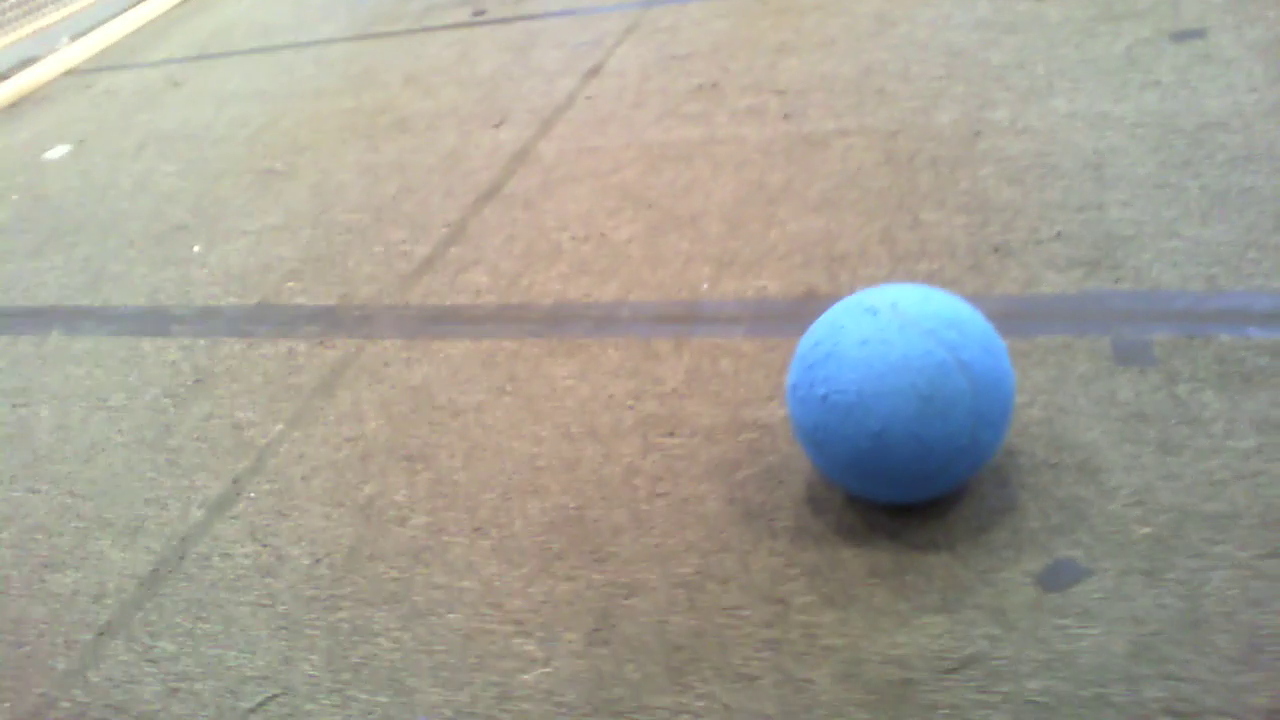blue_cargo: (781, 276, 1015, 510)
